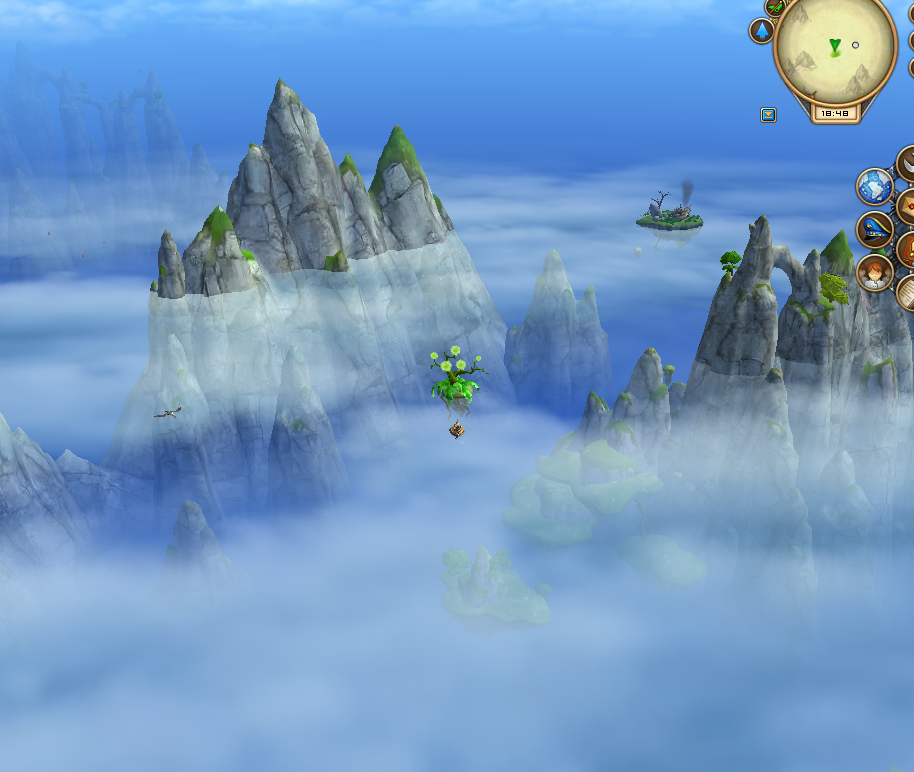dandelion-full: (423, 341, 491, 409)
